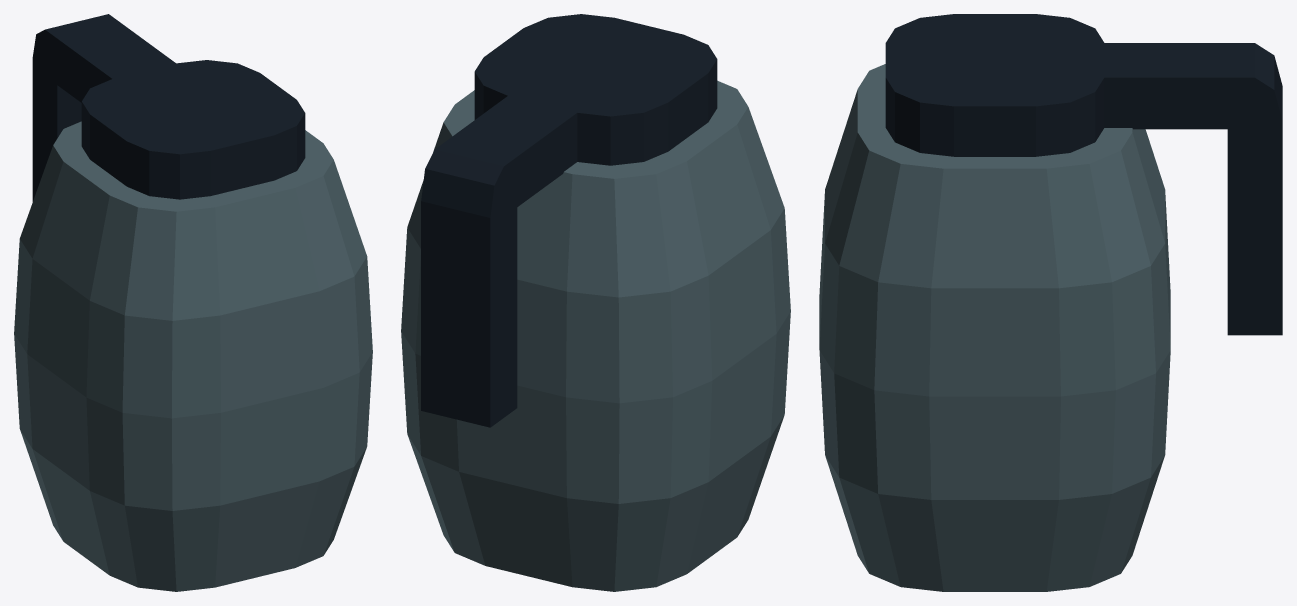
File: (Msh)Granade.fbx
The picture shows the model from 3 angles, left to right: view 1: azimuth 30°, elevation 25°; view 2: azimuth 150°, elevation 25°; view 3: azimuth 270°, elevation 25°; orthographic projection. The views are drawn at different scales.
Visible parts, largest first — view 1: granade; view 2: granade; view 3: granade.
Part boxes in pixels (x1=…): granade: x1=14, y1=14, x2=372, y2=591; granade: x1=401, y1=14, x2=790, y2=591; granade: x1=819, y1=14, x2=1282, y2=591.
Bounding box in the file's own units: 256 × 381 × 337.
